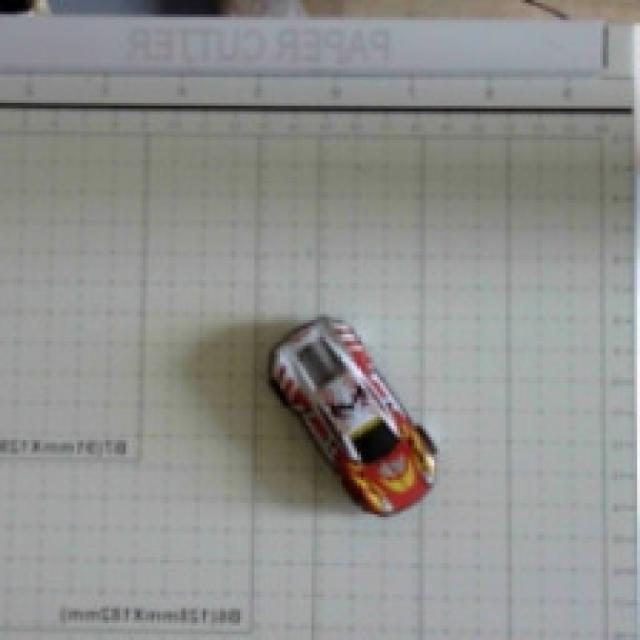Red Car: (215, 297, 499, 553)
